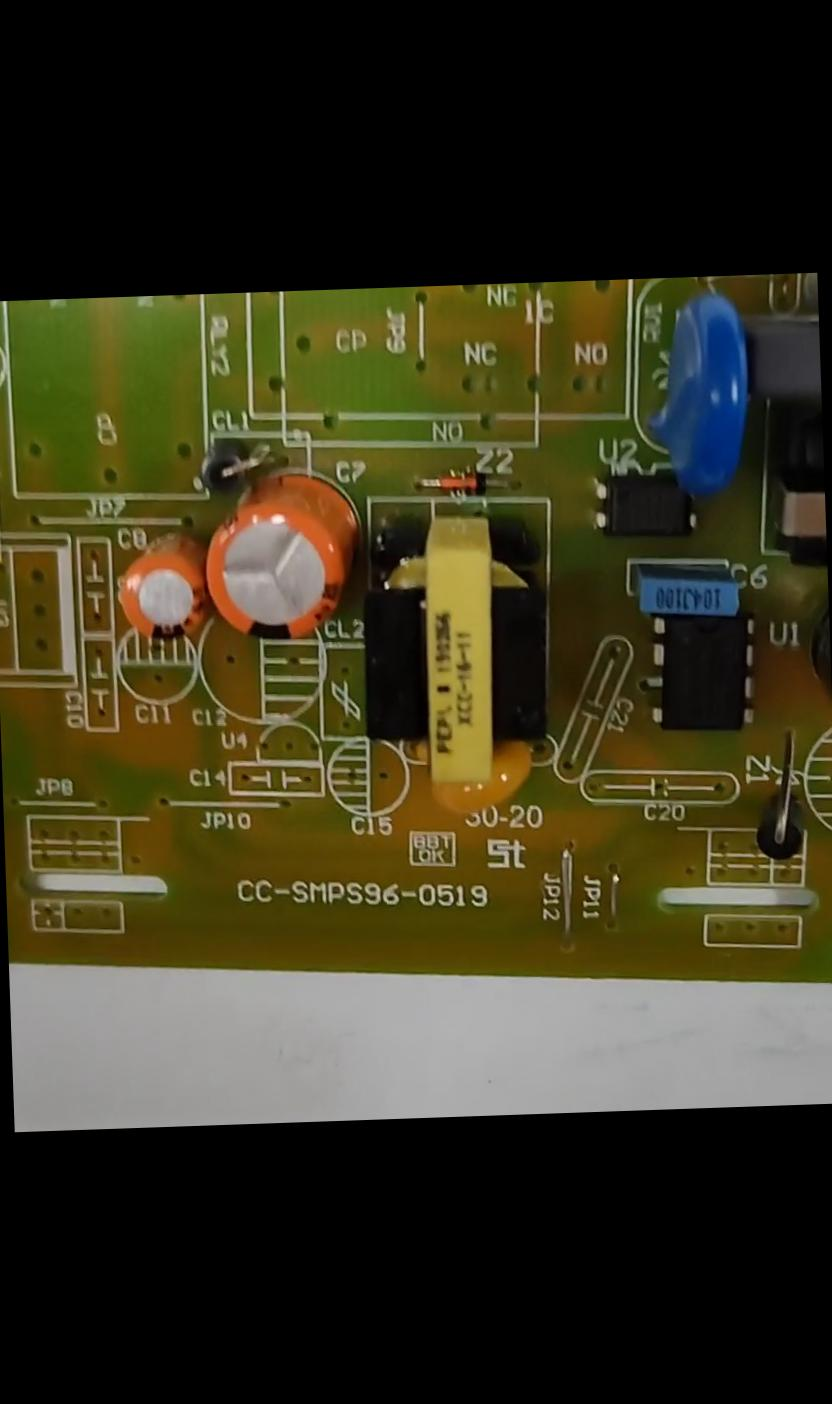Cap1: (205, 471, 361, 637)
Cap2: (115, 534, 211, 644)
MOSFET: (649, 611, 759, 732)
Mov: (664, 292, 756, 486)
Resistor: (797, 272, 818, 322)
Transformer: (350, 512, 548, 787), (774, 418, 826, 574)
